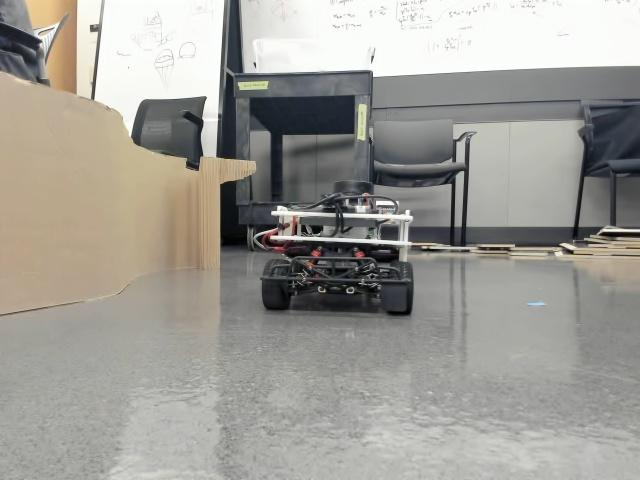Car: (254, 178, 413, 319)
